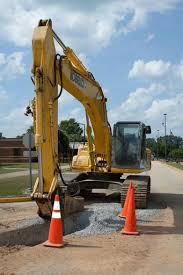excavator: (27, 18, 152, 214)
